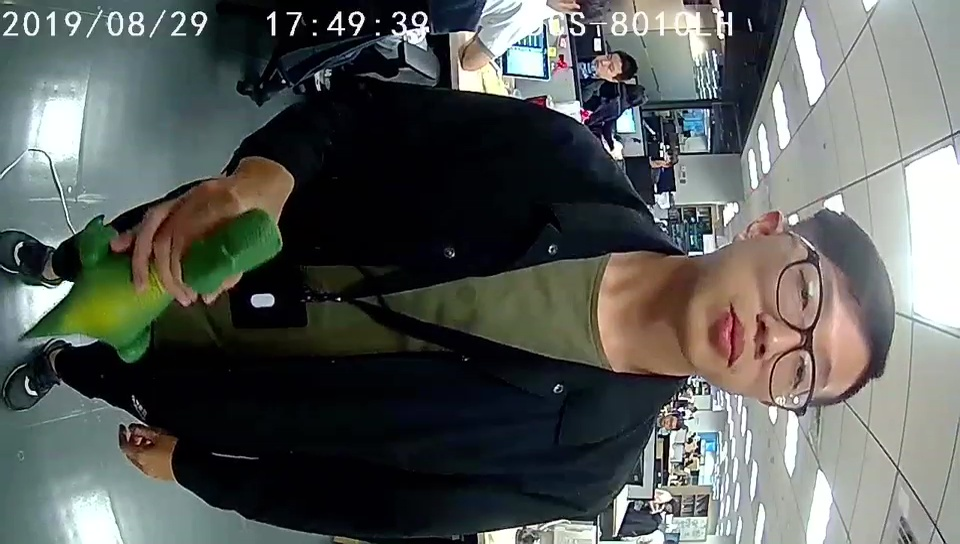rex: (56, 203, 285, 364)
